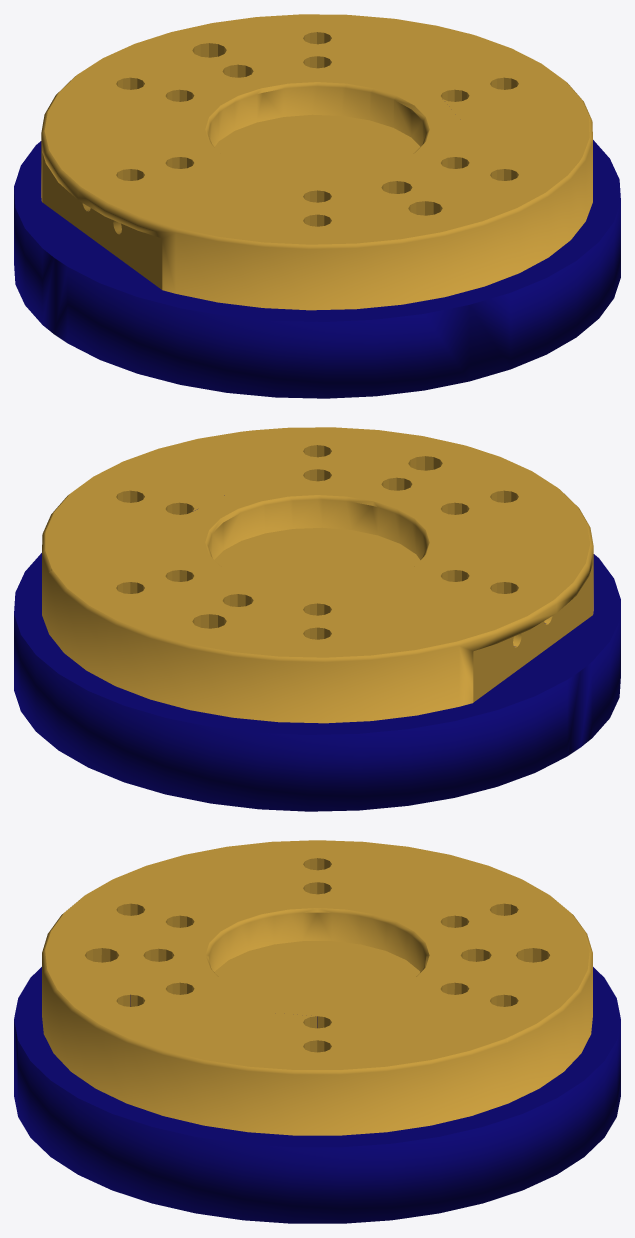
File: T_axis.dae
The picture shows the model from 3 angles, top to bottom: view 1: azimuth 30°, elevation 25°; view 2: azimuth 150°, elevation 25°; view 3: azimuth 270°, elevation 25°; orthographic projection.
Parts seen in each view (by area): view 1: ES165D Taxis; view 2: ES165D Taxis; view 3: ES165D Taxis.
Boxes of the visible parts, x1,y1,x2,y2 form: ES165D Taxis: (14, 14, 620, 398); ES165D Taxis: (14, 427, 620, 811); ES165D Taxis: (14, 840, 620, 1223).
Size of the model in its own units: 0.1757 by 0.176 by 0.045.
